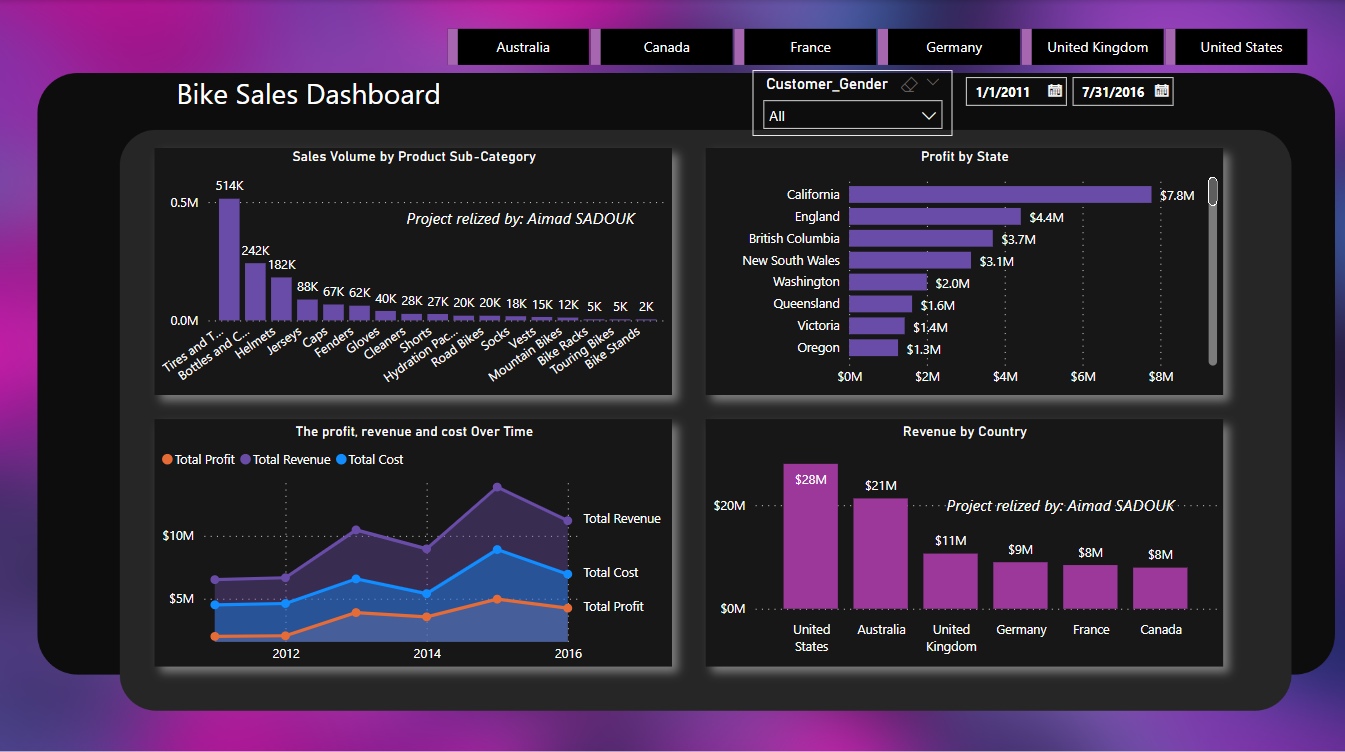

Layout of this report page (visuals, bound fields, positions):
{"tool":"powerbi","page":{"name":"Page 3","canvas":[1280,720],"ordinal":2},"visuals":[{"type":"textbox","box":[163,66,364.2,47.6],"z":0},{"type":"areaChart","title":"The profit, revenue and cost Over Time","fields":{"Category":["Bike_Sales.Year"],"Y":["Sum(Bike_Sales.Profit)","Sum(Bike_Sales.Revenue)","Sum(Bike_Sales.Cost)"]},"box":[148.8,403.4,491.5,236.8],"z":1000},{"type":"columnChart","title":"Sales Volume by Product Sub-Category","fields":{"Category":["Bike_Sales.Sub_Category"],"Y":["Sum(Bike_Sales.Order_Quantity)"]},"box":[148.8,141.6,491.5,235.6],"z":2000},{"type":"columnChart","title":"Revenue by Country","fields":{"Category":["Bike_Sales.Country"],"Y":["Sum(Bike_Sales.Revenue)"]},"box":[673.6,403.4,490.3,227.3],"z":3000},{"type":"clusteredBarChart","title":"Profit by State","fields":{"Category":["Bike_Sales.State"],"Y":["Sum(Bike_Sales.Profit)"]},"box":[673.6,141.6,490.3,235.6],"z":4000},{"type":"slicer","fields":{"Values":["Bike_Sales.Date"]},"box":[906.8,63.1,313,69],"z":5000},{"type":"slicer","fields":{"Values":["Bike_Sales.Customer_Gender"]},"box":[716.4,66.6,190.4,63.1],"z":6000},{"type":"slicer","fields":{"Values":["Bike_Sales.Country"]},"box":[399.9,20.2,868.8,48.8],"z":7000},{"type":"textbox","box":[896.1,465.7,247.7,32.5],"z":8000},{"type":"textbox","box":[382,192.8,248.7,32.1],"z":9000}]}

Visuals, with their boxes in screenshot pixels (x1, y1, x2, y2), scaled from the page's 1280x720 canvas onto the 1345x752 screenshot:
textbox: 171 69 554 119
"The profit, revenue and cost Over Time" areaChart: 156 421 673 669
"Sales Volume by Product Sub-Category" columnChart: 156 148 673 394
"Revenue by Country" columnChart: 708 421 1223 659
"Profit by State" clusteredBarChart: 708 148 1223 394
slicer - Bike_Sales.Date: 953 66 1282 138
slicer - Bike_Sales.Customer_Gender: 753 70 953 135
slicer - Bike_Sales.Country: 420 21 1333 72
textbox: 942 486 1202 520
textbox: 401 201 663 235
